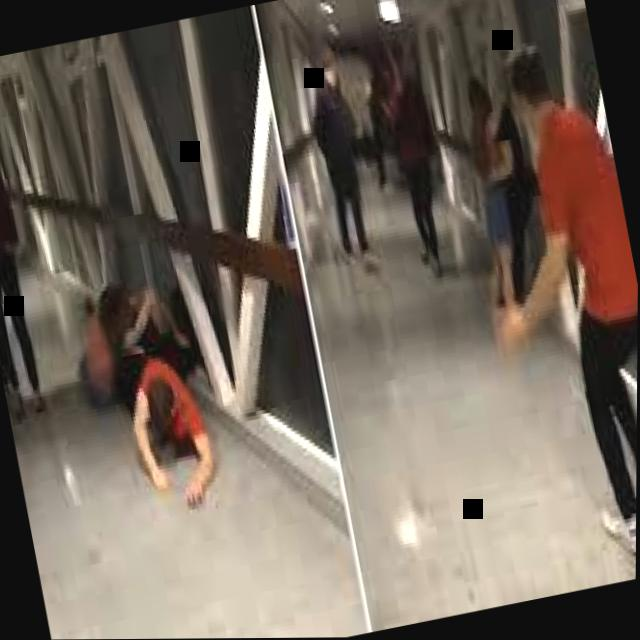Fall-Detected: (57, 251, 160, 412)
